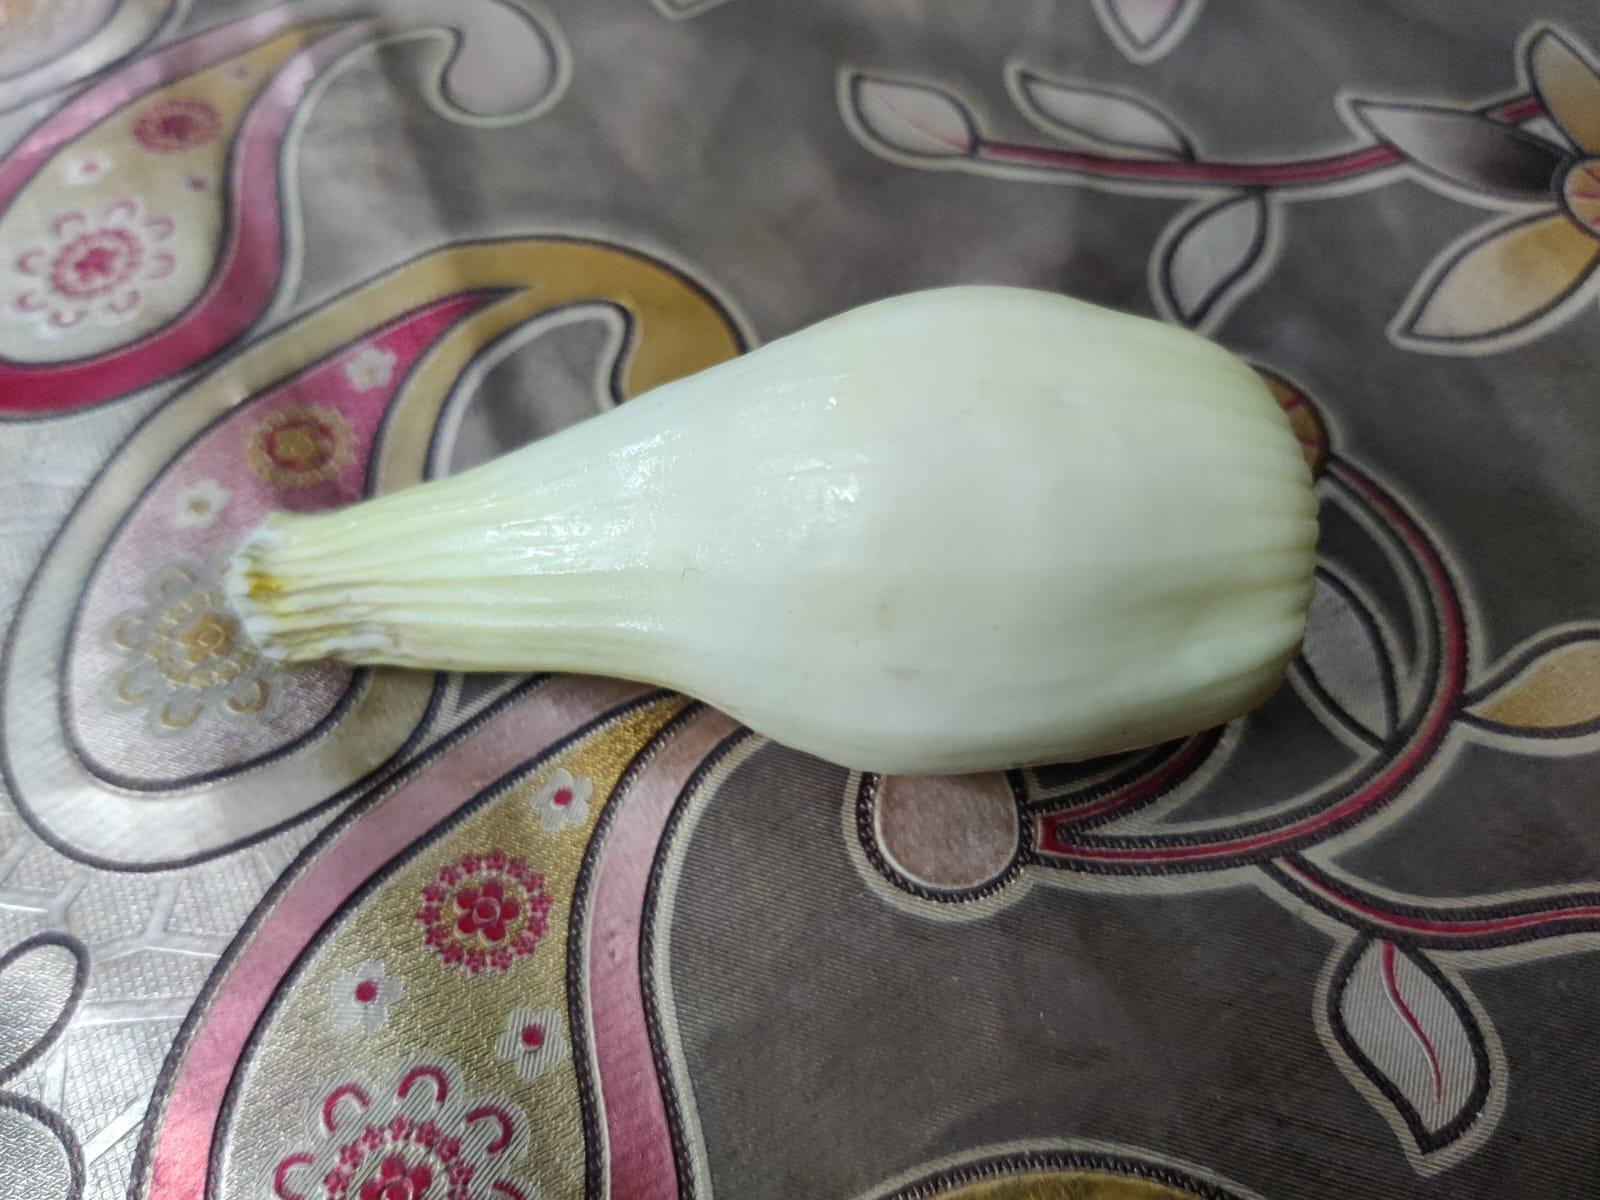non-mango: (231, 285, 1323, 794)
